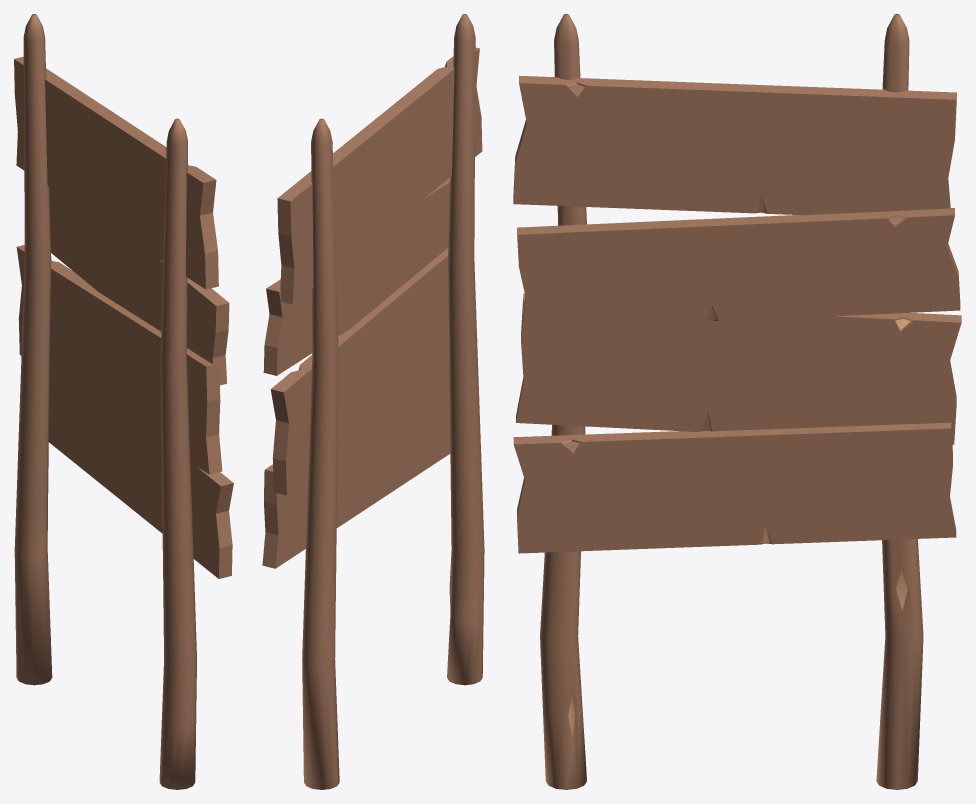
Rendered from Panneau.fbx.
3 views of the same model, side by side, from view 1: azimuth 30°, elevation 25°; view 2: azimuth 150°, elevation 25°; view 3: azimuth 270°, elevation 25° (orthographic). The views are drawn at different scales.
Parts seen in each view (by area): view 1: Cube.027; view 2: Cube.027; view 3: Cube.027.
Part boxes in pixels (x1,y1,x2,y2): Cube.027: (14, 14, 233, 789); Cube.027: (262, 14, 484, 789); Cube.027: (513, 14, 961, 789).
Size of the model in its own units: 30.07 by 386 by 205.
